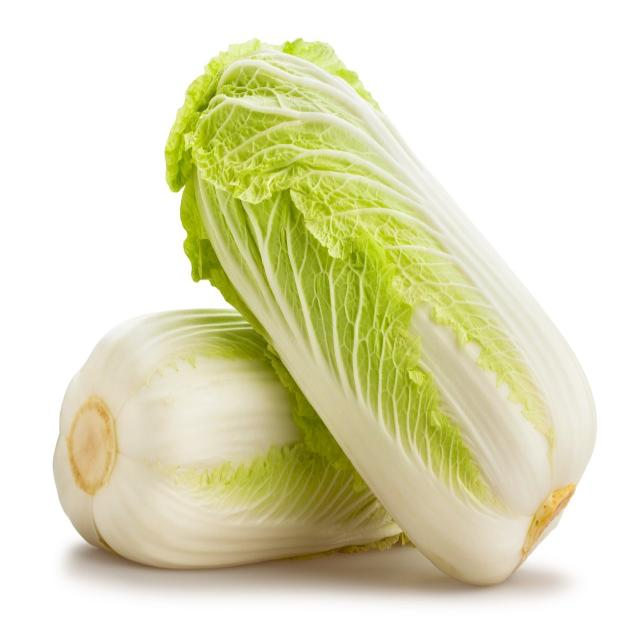Organik: (159, 31, 602, 592), (48, 294, 440, 574)
